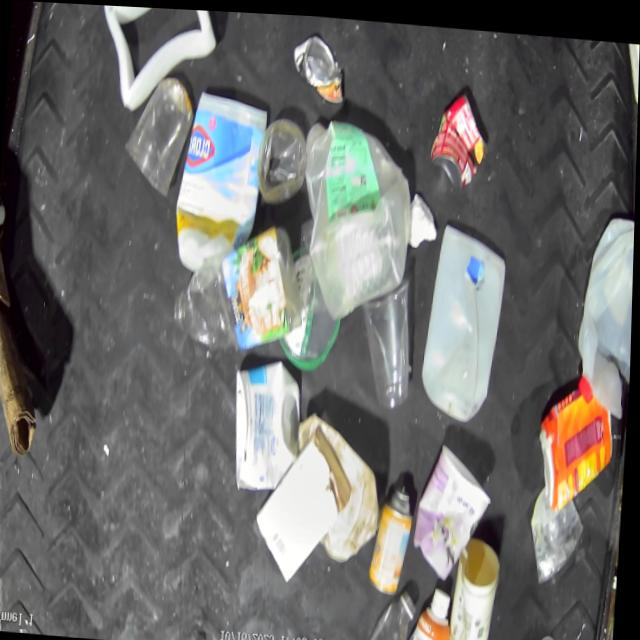can: (367, 477, 418, 598), (427, 92, 488, 191), (297, 30, 351, 100)
milk_jug: (298, 101, 418, 318), (422, 219, 513, 421), (572, 215, 636, 411)
non_white_jug: (171, 101, 263, 277), (542, 375, 614, 516)
plastic_bottle: (173, 227, 294, 360), (358, 582, 423, 640)
